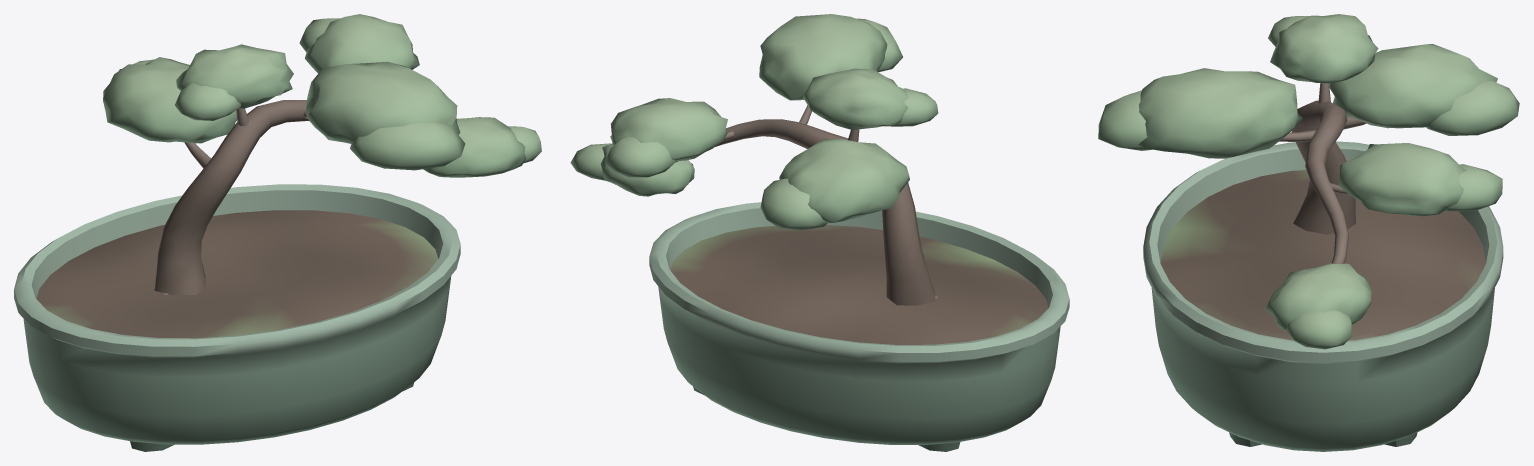
The model's file is bonsai_stage2.glb.
3 renders of one model, left to right at view 1: azimuth 30°, elevation 25°; view 2: azimuth 150°, elevation 25°; view 3: azimuth 270°, elevation 25°, orthographic. The views are drawn at different scales.
Parts seen in each view (by area): view 1: bonsai_stage2; view 2: bonsai_stage2; view 3: bonsai_stage2.
Boxes of the visible parts, x1,y1,x2,y2 form: bonsai_stage2: [14, 14, 541, 451]; bonsai_stage2: [570, 14, 1069, 451]; bonsai_stage2: [1098, 14, 1519, 451].
Size of what is drawn, in the model's own units: 0.4513 by 0.2878 by 0.3102.
